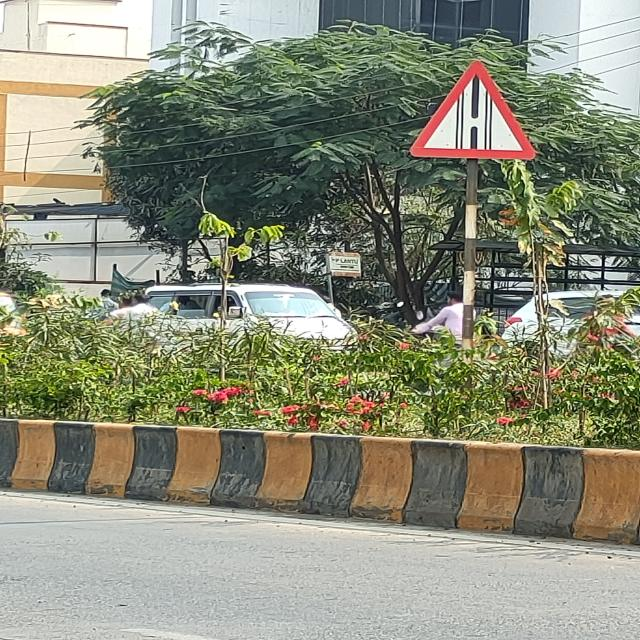ferry: (411, 56, 537, 161)
